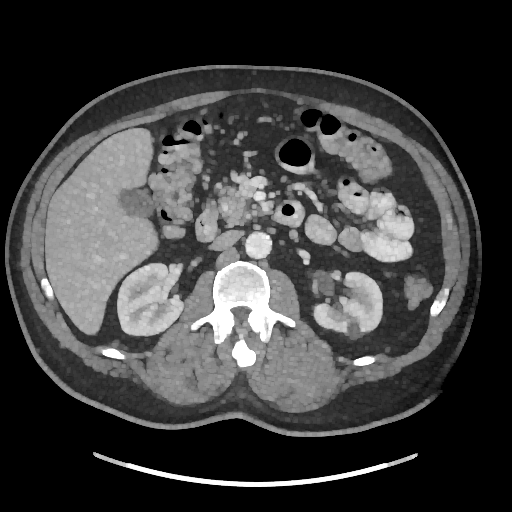Lesion: (346, 320, 361, 339)
